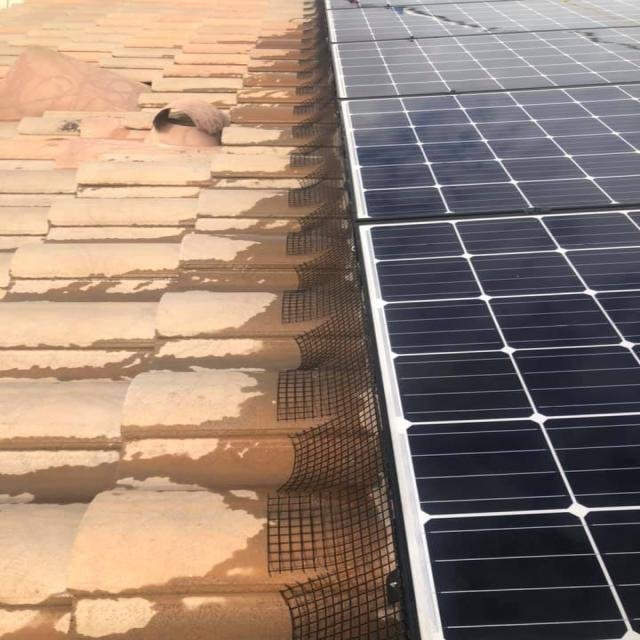clean-solar-panel: (490, 295, 620, 349)
